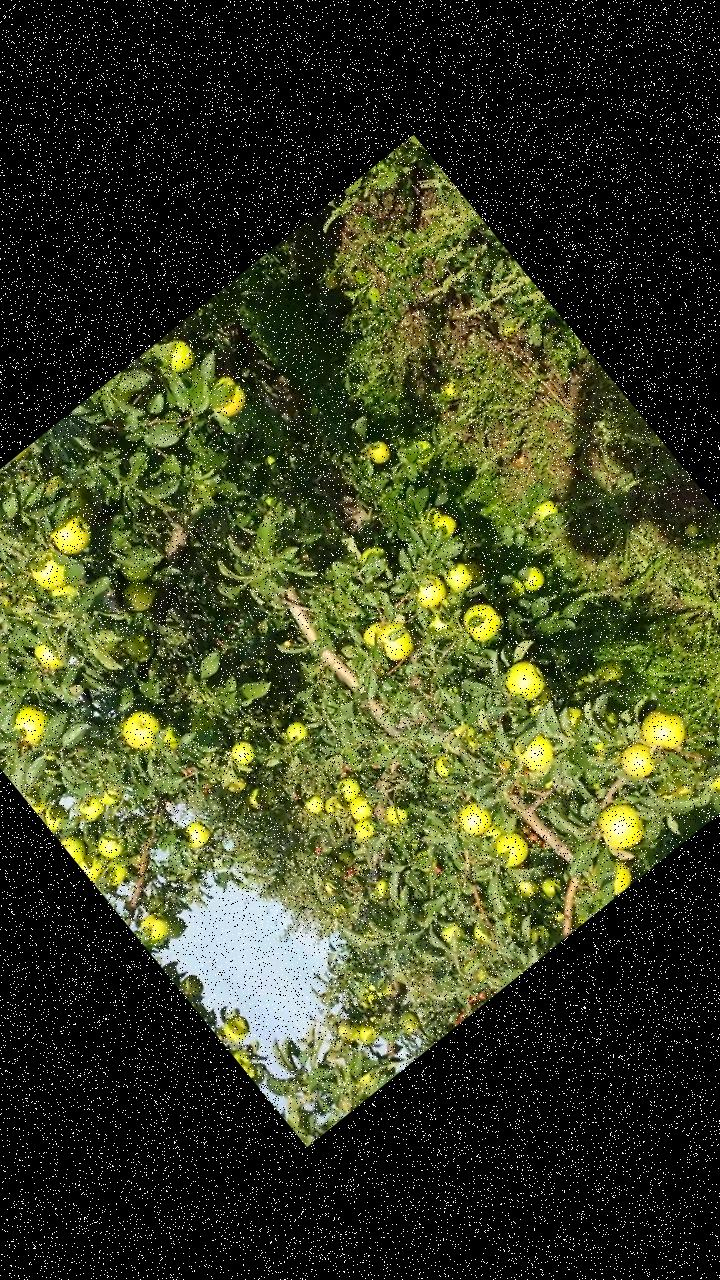Apple: (589, 795, 650, 856), (634, 699, 692, 758), (45, 506, 100, 560), (496, 654, 550, 709), (114, 704, 168, 758), (7, 696, 57, 748), (111, 570, 161, 620), (369, 618, 415, 665), (457, 598, 504, 644), (513, 731, 559, 776), (448, 796, 493, 840), (29, 553, 73, 597), (614, 738, 658, 782), (489, 826, 531, 870), (407, 568, 450, 610), (116, 625, 158, 667), (132, 908, 174, 949), (652, 771, 694, 812), (114, 548, 156, 588), (208, 384, 250, 424), (596, 855, 636, 895), (90, 826, 128, 863), (36, 796, 72, 834), (162, 339, 198, 376), (178, 816, 214, 851), (29, 641, 63, 677), (513, 559, 547, 594), (47, 577, 81, 611), (59, 828, 92, 862), (77, 849, 110, 882), (496, 568, 528, 602), (357, 616, 390, 648), (224, 736, 256, 768), (441, 562, 473, 594), (218, 1012, 249, 1044), (421, 608, 452, 640), (381, 800, 412, 830), (406, 438, 437, 468), (333, 1013, 363, 1043), (558, 702, 588, 732), (176, 971, 205, 1001), (37, 473, 67, 502), (346, 795, 375, 825), (361, 438, 391, 467), (428, 510, 458, 539), (352, 1066, 382, 1094), (332, 774, 360, 804), (94, 785, 123, 813), (348, 816, 377, 844), (584, 736, 613, 764), (354, 986, 382, 1014), (161, 913, 189, 940), (352, 1018, 380, 1045), (530, 496, 557, 524), (99, 861, 126, 888), (76, 795, 103, 822), (437, 921, 464, 947), (282, 718, 308, 745), (395, 1007, 421, 1033), (356, 541, 382, 567), (159, 724, 184, 750), (370, 876, 396, 901), (514, 874, 539, 900), (211, 373, 237, 398), (234, 1050, 258, 1076), (468, 924, 492, 950), (300, 792, 325, 816), (243, 788, 266, 813), (245, 1061, 268, 1085), (538, 874, 560, 898), (462, 558, 484, 582), (23, 790, 44, 813), (335, 848, 356, 870), (318, 796, 339, 816), (432, 757, 452, 778), (706, 763, 719, 795), (226, 776, 246, 796), (421, 506, 440, 524), (328, 860, 346, 878), (472, 967, 488, 983)
